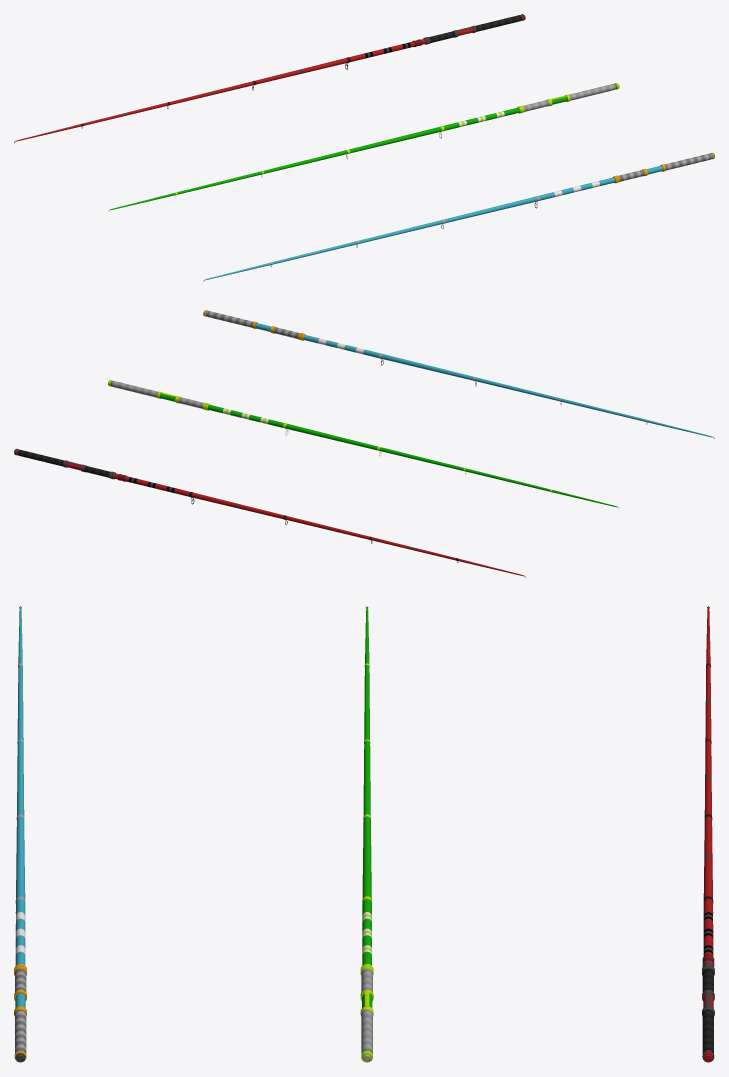
Rendered from Wedki 4 i 5 i 6.fbx.
The picture shows the model from 3 angles, top to bottom: view 1: azimuth 30°, elevation 25°; view 2: azimuth 150°, elevation 25°; view 3: azimuth 270°, elevation 25°; orthographic projection. The views are drawn at different scales.
Parts seen in each view (by area): view 1: Cylinder.002, Cylinder, Cylinder.001; view 2: Cylinder.002, Cylinder.001, Cylinder; view 3: Cylinder.002, Cylinder, Cylinder.001.
Part boxes in pixels (bbox=[...]): Cylinder.002: bbox=[14, 14, 525, 142]; Cylinder: bbox=[203, 152, 714, 281]; Cylinder.001: bbox=[108, 83, 619, 211]; Cylinder.002: bbox=[14, 448, 525, 577]; Cylinder.001: bbox=[108, 380, 619, 508]; Cylinder: bbox=[203, 310, 714, 438]; Cylinder.002: bbox=[702, 606, 714, 1062]; Cylinder: bbox=[14, 606, 26, 1062]; Cylinder.001: bbox=[360, 606, 373, 1062].
Size of the model in its own units: 1721 by 39.85 by 1127.
